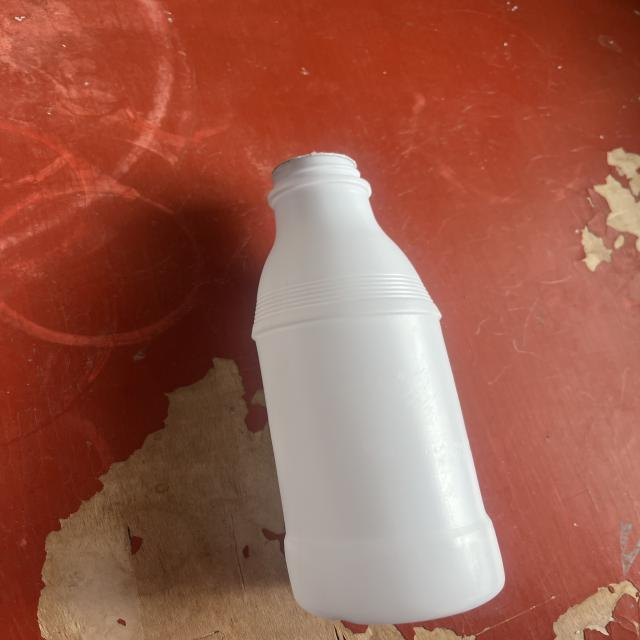HDPE_Bottle: (253, 154, 504, 623)
